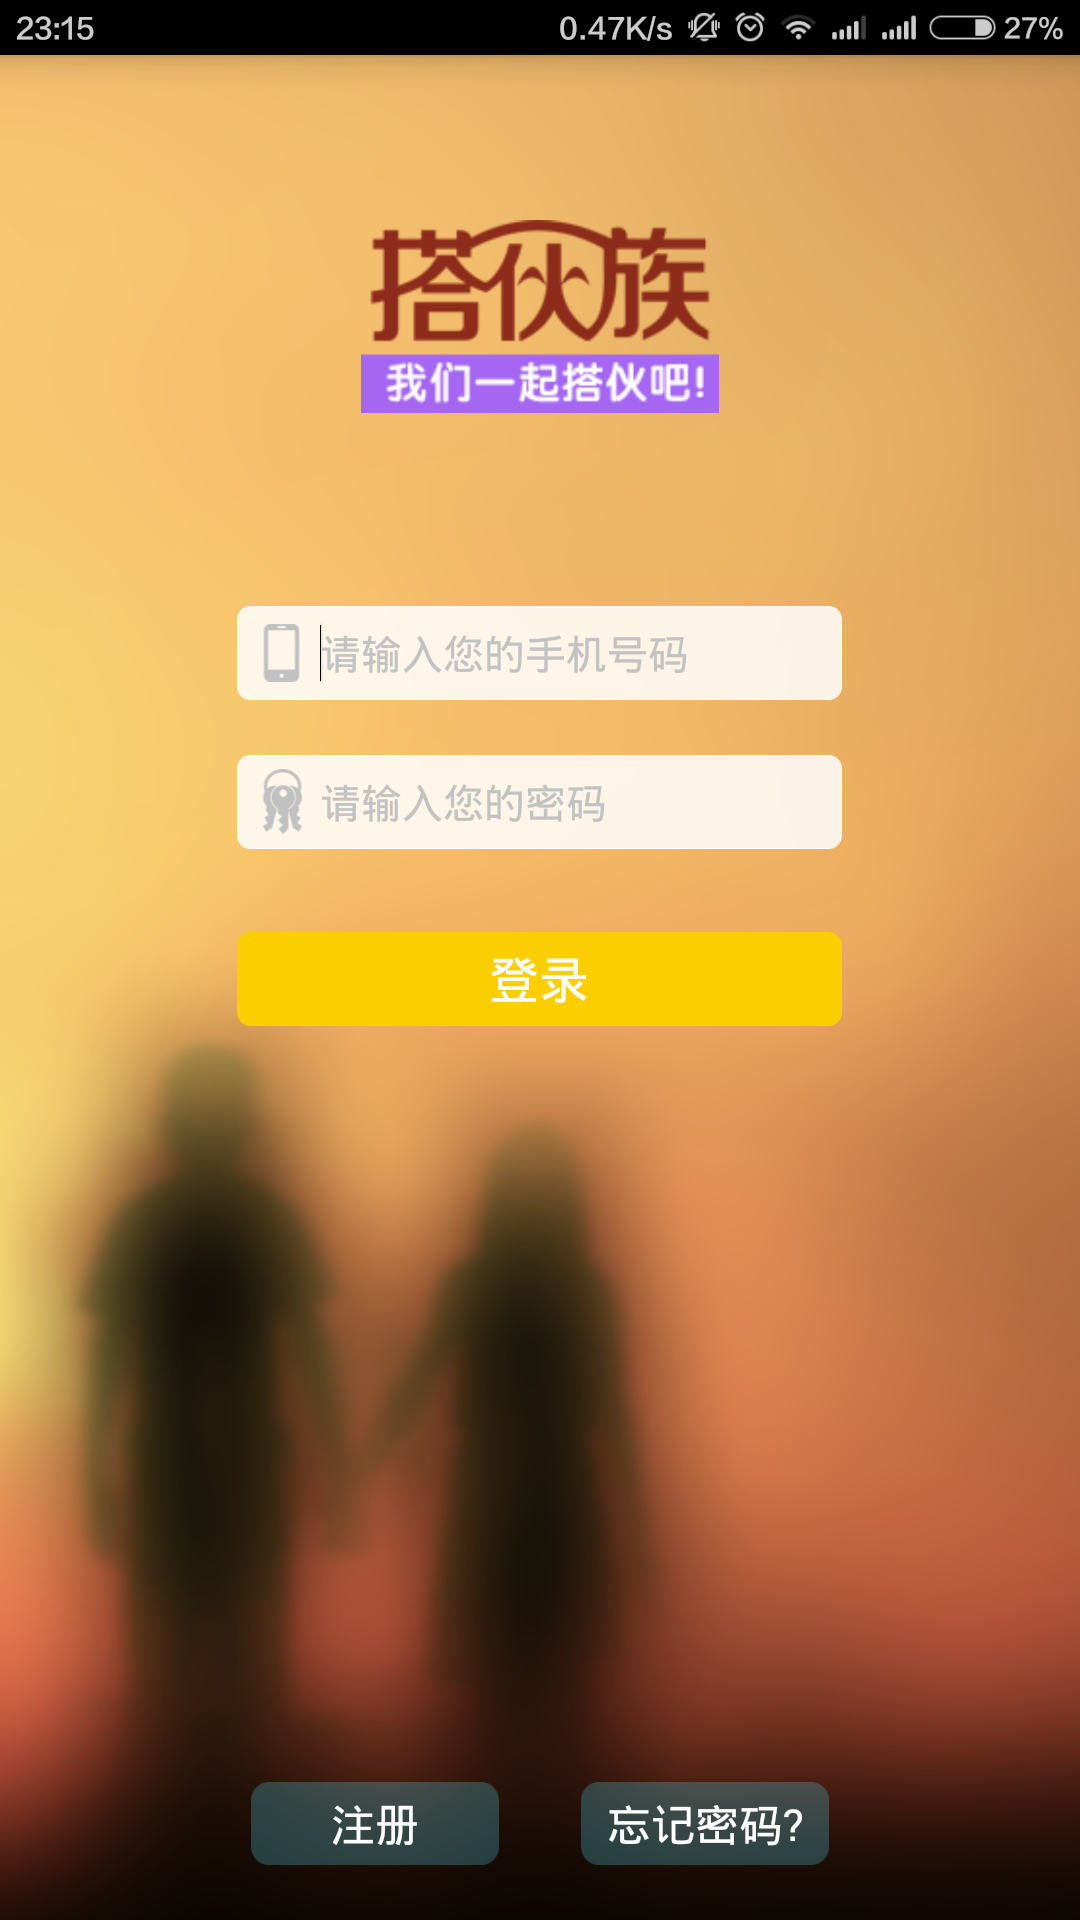button: (210, 926, 873, 1040), (563, 1766, 852, 1873), (233, 1772, 517, 1874)
imgview: (344, 212, 752, 419)
textview: (218, 749, 876, 858), (227, 601, 862, 709)
